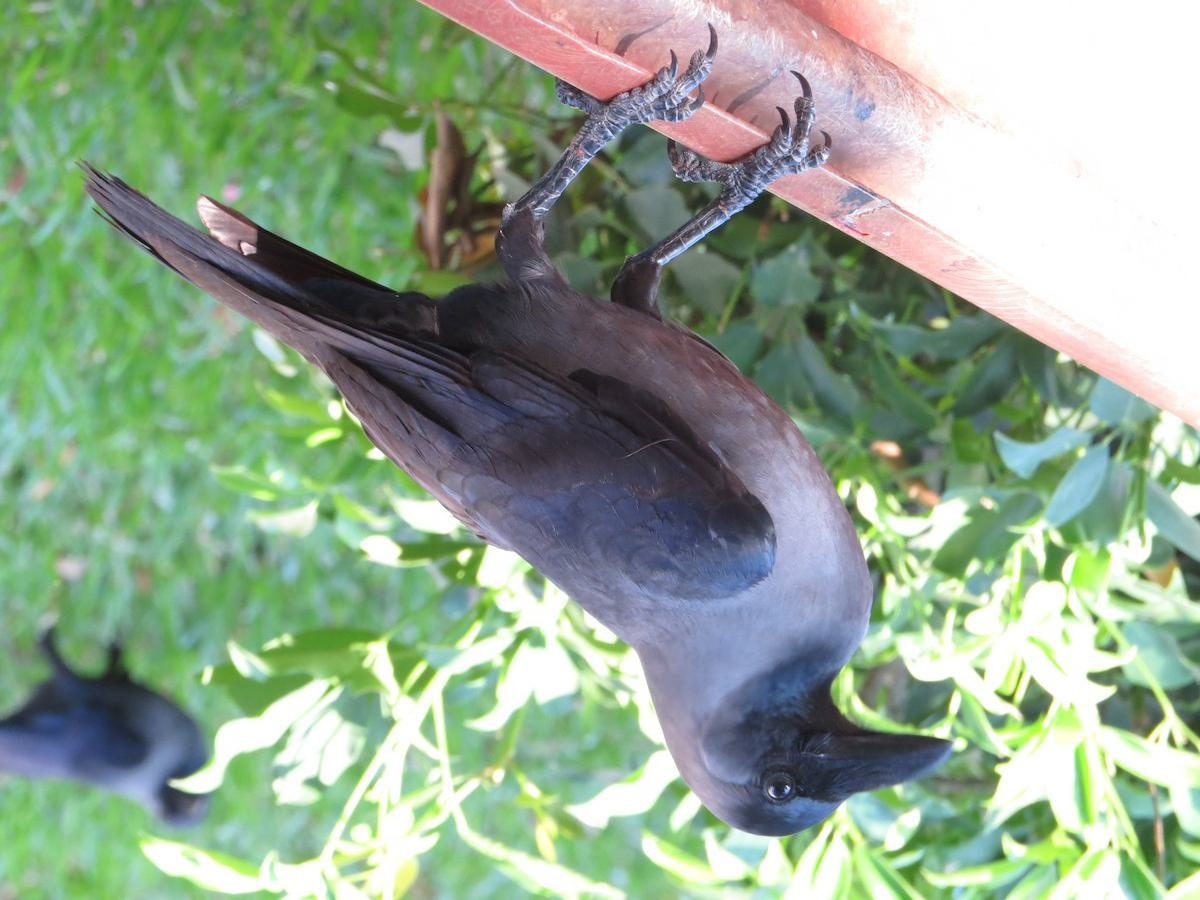crow: (154, 41, 971, 840)
